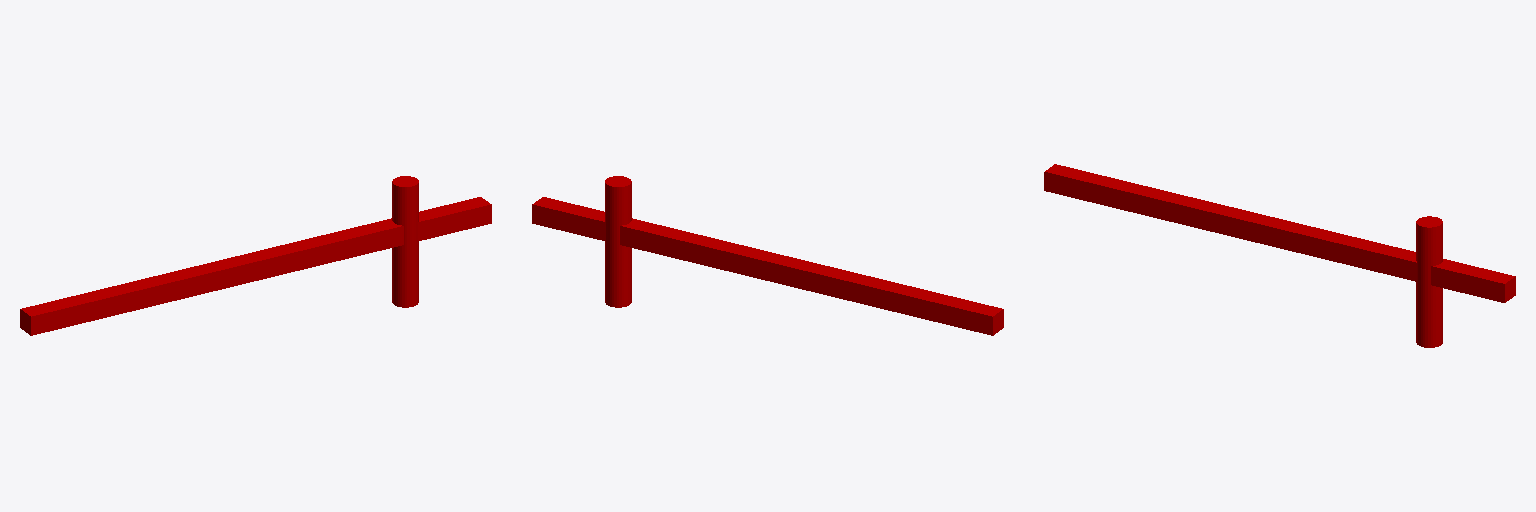
The robot description file, URDF, robot "barrera":
<?xml version="1.0"?>

<robot name="barrera">

    <material name="red">
        <color rgba="0.8 0 0 1" />
    </material>

    <link name="body_barrera">

        <inertial>
            <origin xyz="0 0 0.1" />
            <mass value="10000.0" />
            <inertia ixx="1.0" ixy="0.0" ixz="0.0"
            iyy="1.0" iyz="0.0" izz="1.0" />

        </inertial>
        <visual>        
            <origin xyz="0 0 0.1" />
            <geometry>
                <cylinder length="0.5" radius="0.05"/>
            </geometry>
            <material name="red"/>
        </visual>

        <collision>
            <origin xyz="0 0 0.1" />
            <geometry>
                <cylinder length="0.5" radius="0.08"/>
            </geometry>
        </collision>
    </link>

     <link name="brazo_barrera">

        <inertial>
            <origin xyz="-0.65 0 0.05" />
            <mass value="5.0" />
            <inertia ixx="2.5" ixy="0.0" ixz="0.0"
            iyy="0.0" iyz="0.0" izz="2.5" />

        </inertial>
        <visual>        
            <origin xyz="-0.65 0 0.05" />
            <geometry>
                <box size="2 0.08 0.08" />
            </geometry>
            <material name="red"/>
        </visual>

        <collision>
            <origin xyz="-0.65 0 0.05" />
            <geometry>
                <box size="2 0.08 0.08" />
            </geometry>
        </collision>
    </link>

     <joint name="barrier" type="revolute">
        <parent link="body_barrera" />
        <child link="brazo_barrera" />
        <dynamics damping="0.0" friction="0.0" />
        <origin xyz="0 0 0.1" />
        <axis xyz="0 0 1" />

        <limit lower="-3.15" upper="3.15" effort="1.0" velocity="0.5" />
    </joint>
</robot>

--- Facts derived from the render (not from the file) ---
3 views of the same robot in one strip: view 1: azimuth 30°, elevation 25°; view 2: azimuth 150°, elevation 25°; view 3: azimuth 330°, elevation 25° (orthographic).
Model barrera with 2 links and 1 joints (1 revolute), rooted at body_barrera, posed every joint at zero.
Visible links, largest first — view 1: brazo_barrera, body_barrera; view 2: brazo_barrera, body_barrera; view 3: brazo_barrera, body_barrera.
Boxes of the visible links, x1=… form: brazo_barrera: x1=20, y1=197, x2=491, y2=335; body_barrera: x1=392, y1=176, x2=418, y2=307; brazo_barrera: x1=532, y1=197, x2=1003, y2=335; body_barrera: x1=605, y1=176, x2=631, y2=307; brazo_barrera: x1=1044, y1=164, x2=1515, y2=302; body_barrera: x1=1416, y1=216, x2=1442, y2=347.
Size in the robot's own frame: 2 by 0.1 by 0.5 metres.
Geometry: primitives only (box / cylinder / sphere), no mesh files.
